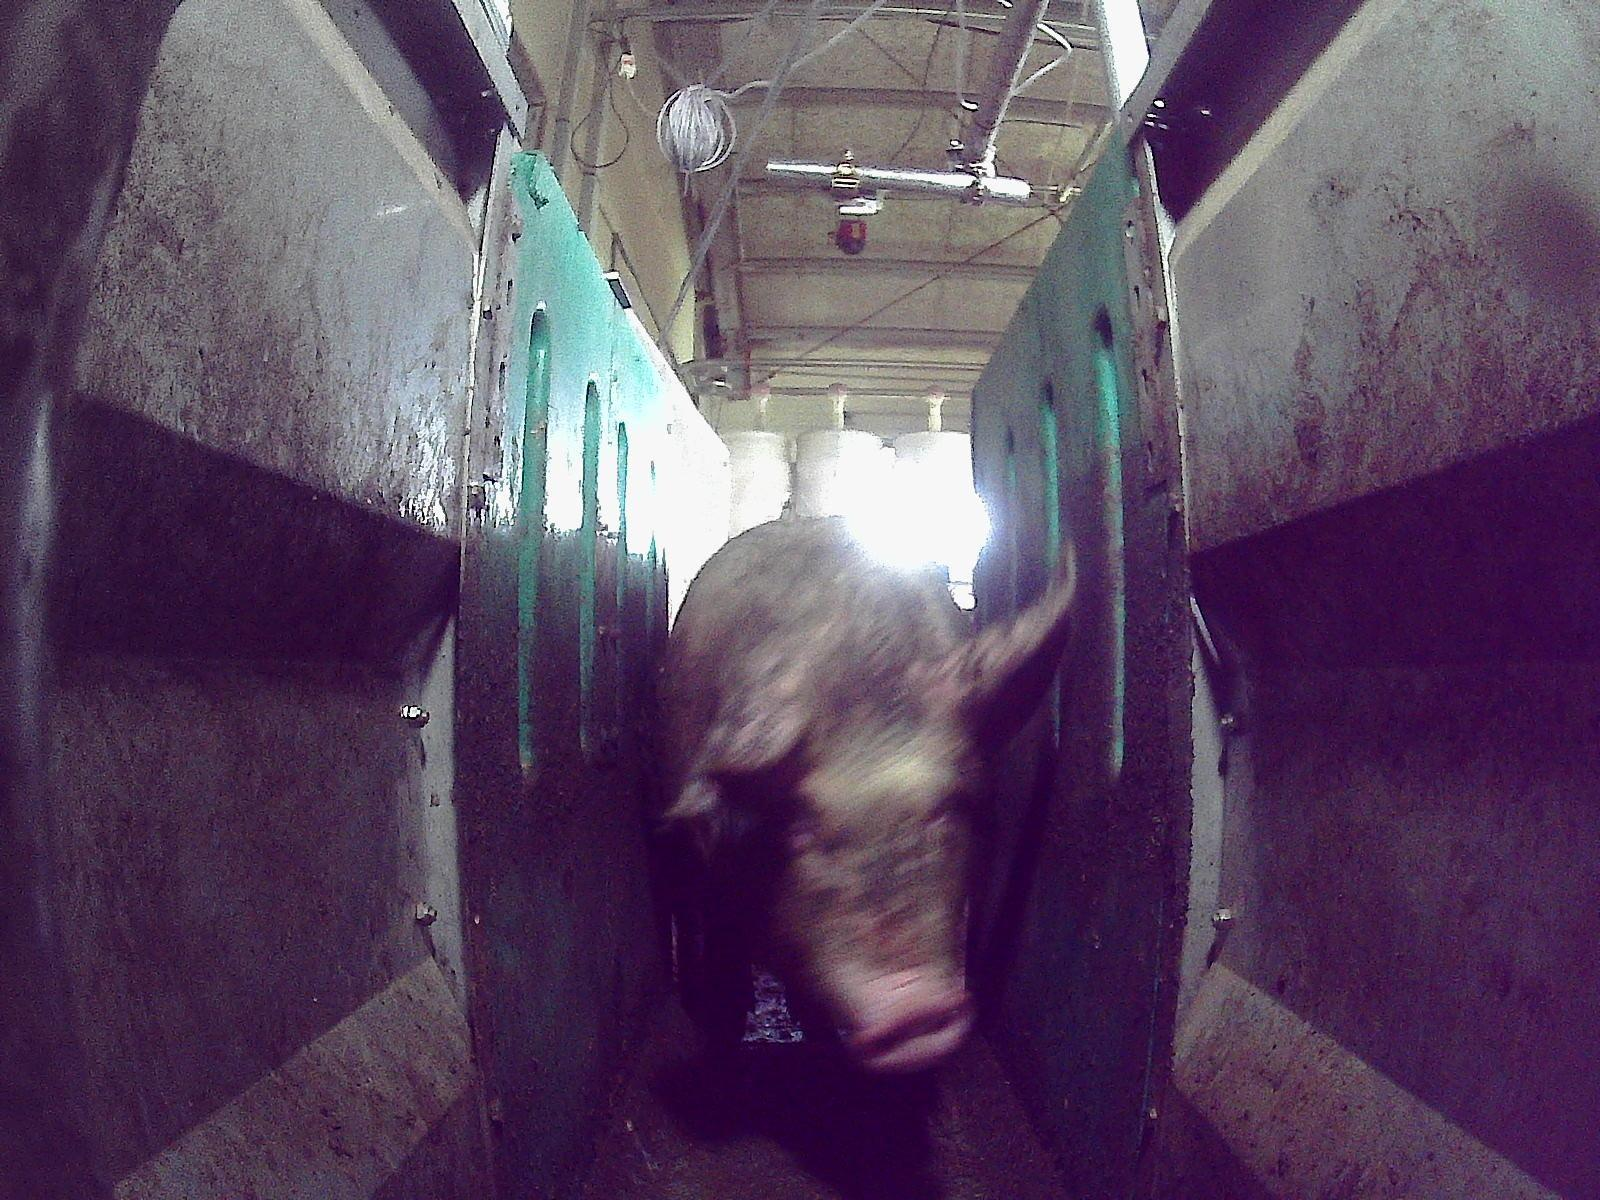Face: (710, 629, 980, 1070)
